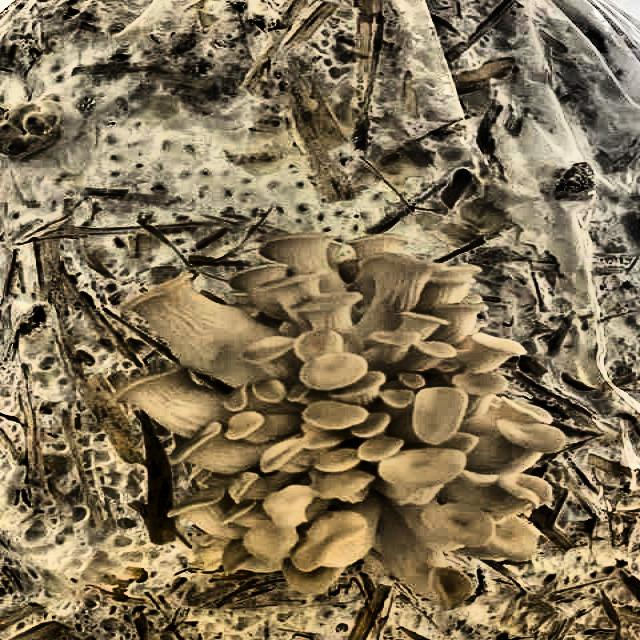Healthy: (138, 231, 639, 587)
